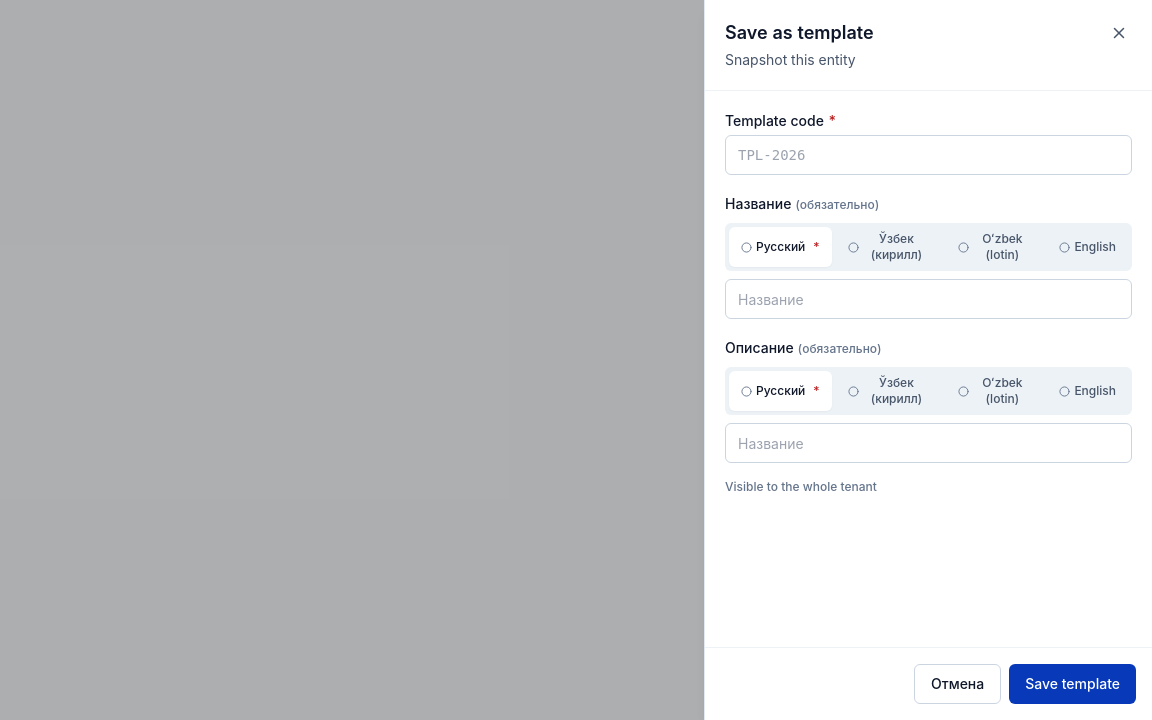
it: <SaveAsTemplateDrawer /> (shared) › requires a valid name (per validateName) once a code is entered
Type "tpl-1" into the field with test id "fake-save-template-code" at point(928, 155), box [725, 135, 1132, 175]
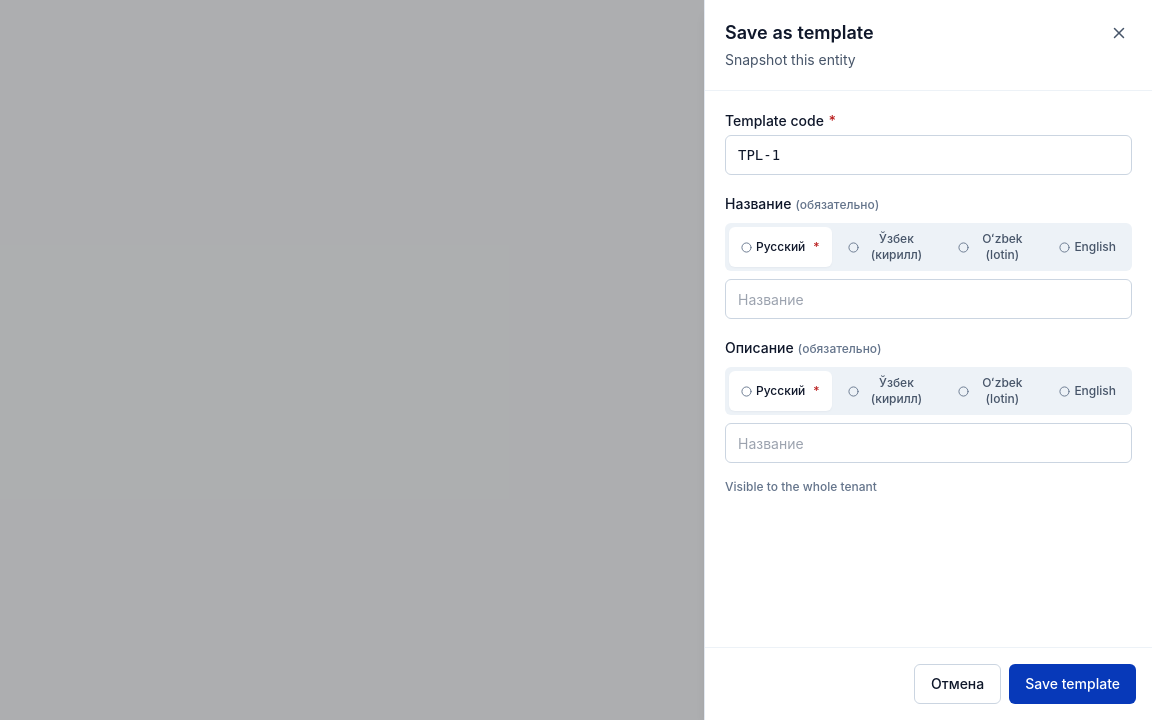
Click the button "Save template" at point(1073, 684), box [1009, 664, 1136, 704]
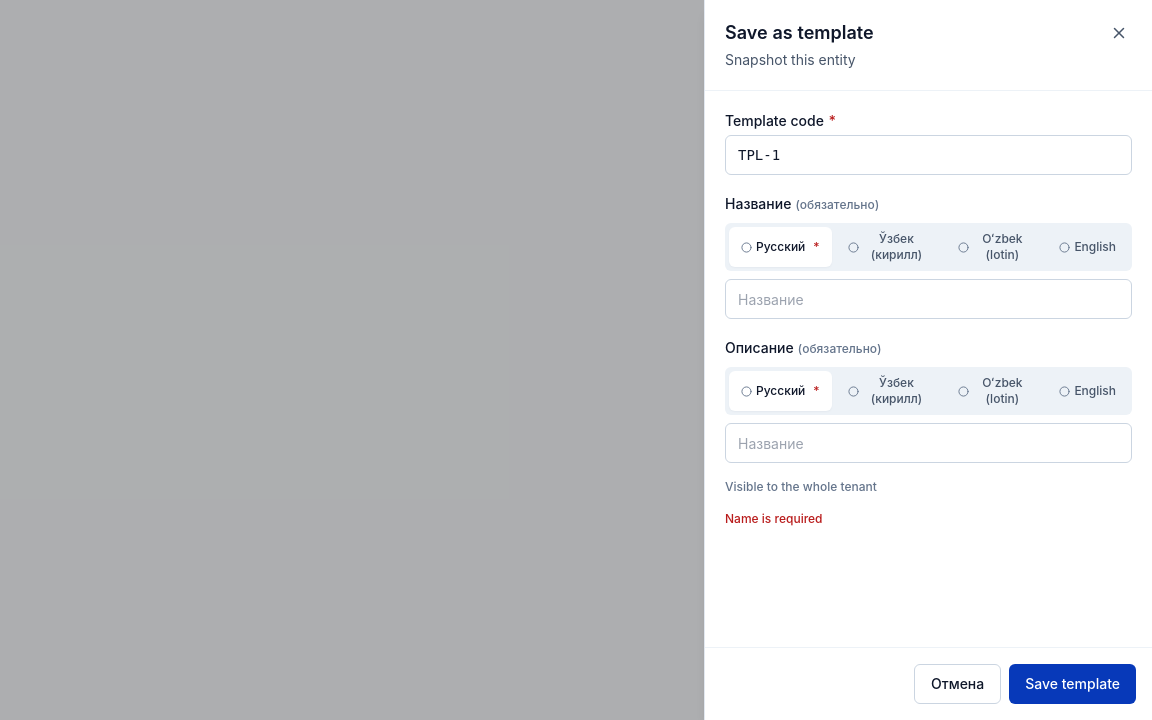
Expected: the message with test id "fake-save-template-error" reads "Name is required", [725, 511, 822, 526]
